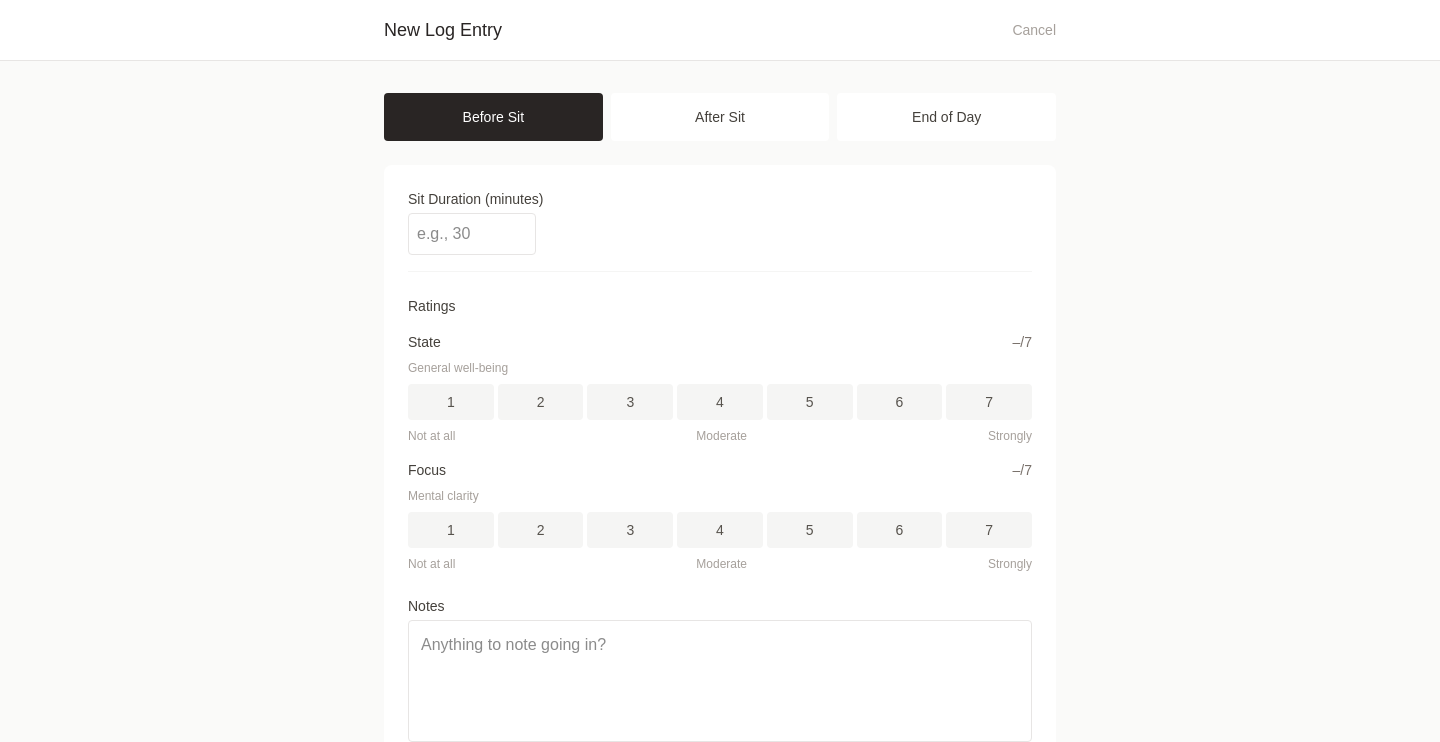
Test: LogForm › shows technique notes only for after_sit
Expected: the field with placeholder "what technique" is not shown
// Switch to after_sit
Click the button "After Sit". click: [720, 117]
box: [611,93,829,141]
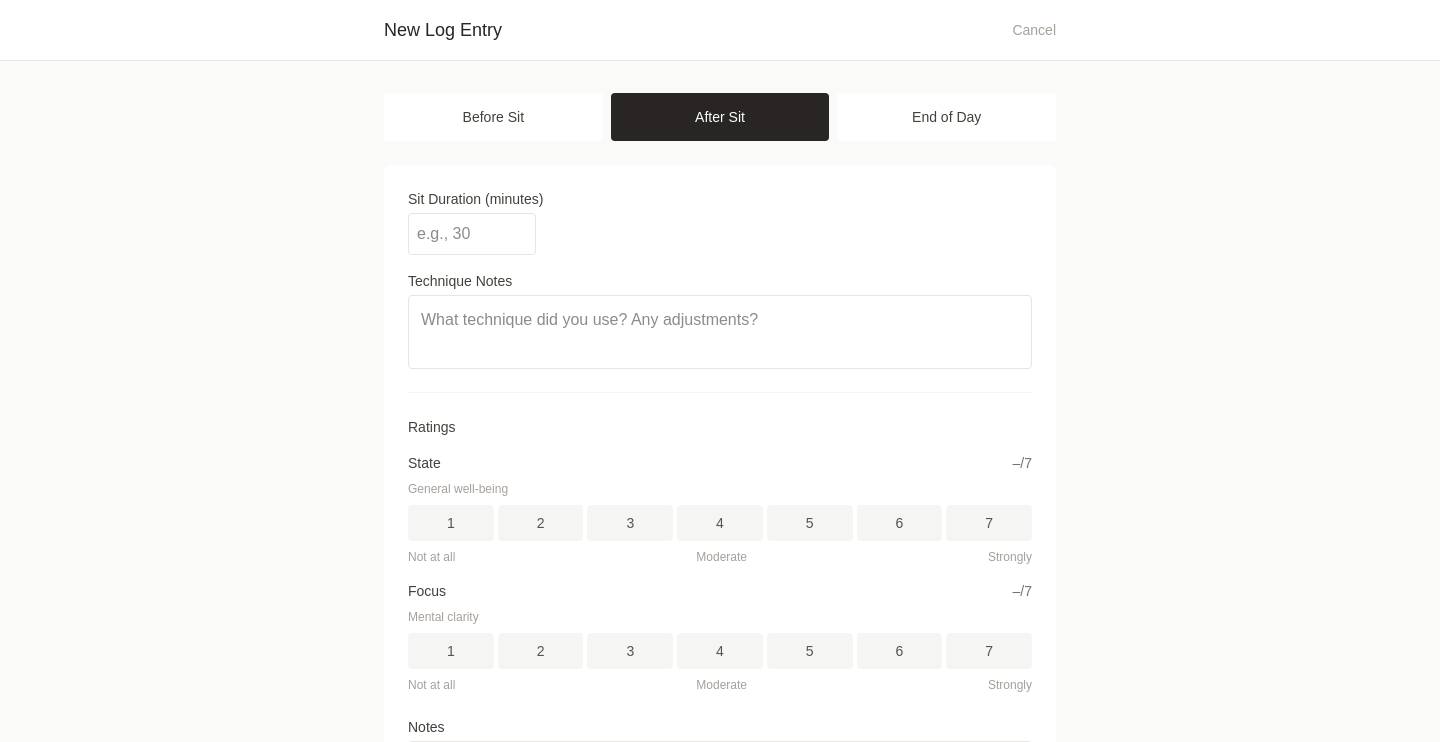
Now the text box with placeholder "What technique did you use? Any adjustments?" is shown, box [408,295,1032,369]
